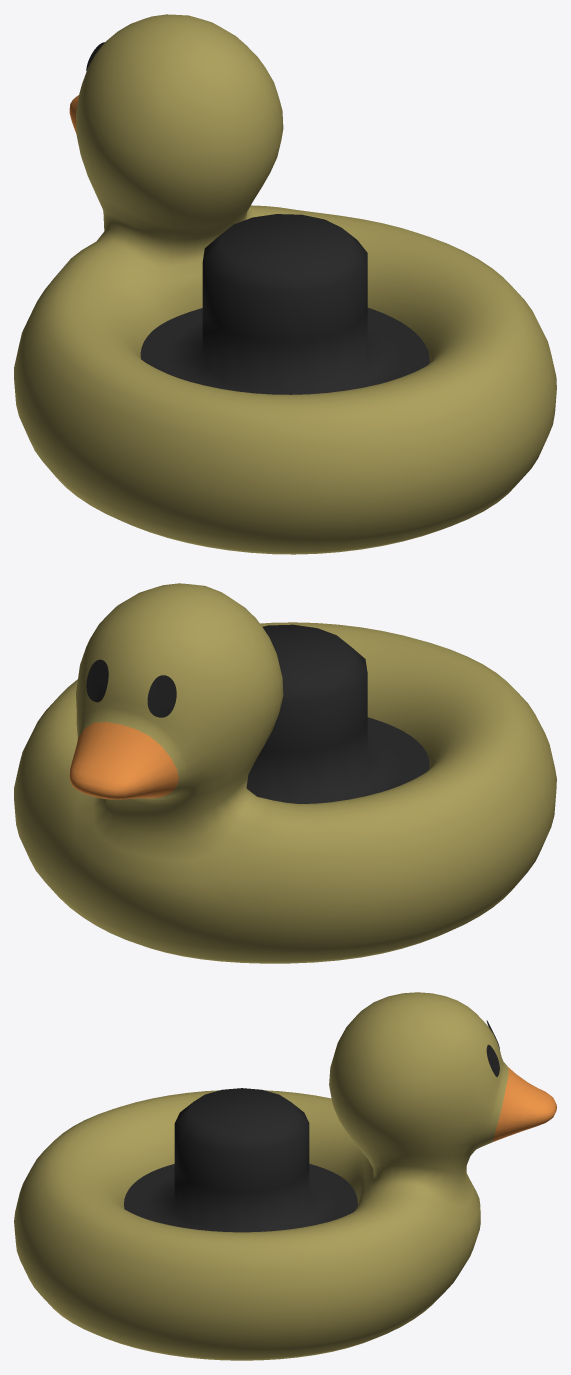
The model's file is duck.glb.
3 views of the same model, one above another, from view 1: azimuth 30°, elevation 25°; view 2: azimuth 150°, elevation 25°; view 3: azimuth 270°, elevation 25° (orthographic). The views are drawn at different scales.
Visible parts, largest first — view 1: Circle; view 2: Circle; view 3: Circle.
Boxes of the visible parts, bbox=[...] form: Circle: bbox=[14, 14, 556, 554]; Circle: bbox=[14, 583, 556, 963]; Circle: bbox=[14, 992, 556, 1360].
Size of the model in its own units: 1.41 by 1.03 by 1.77.
